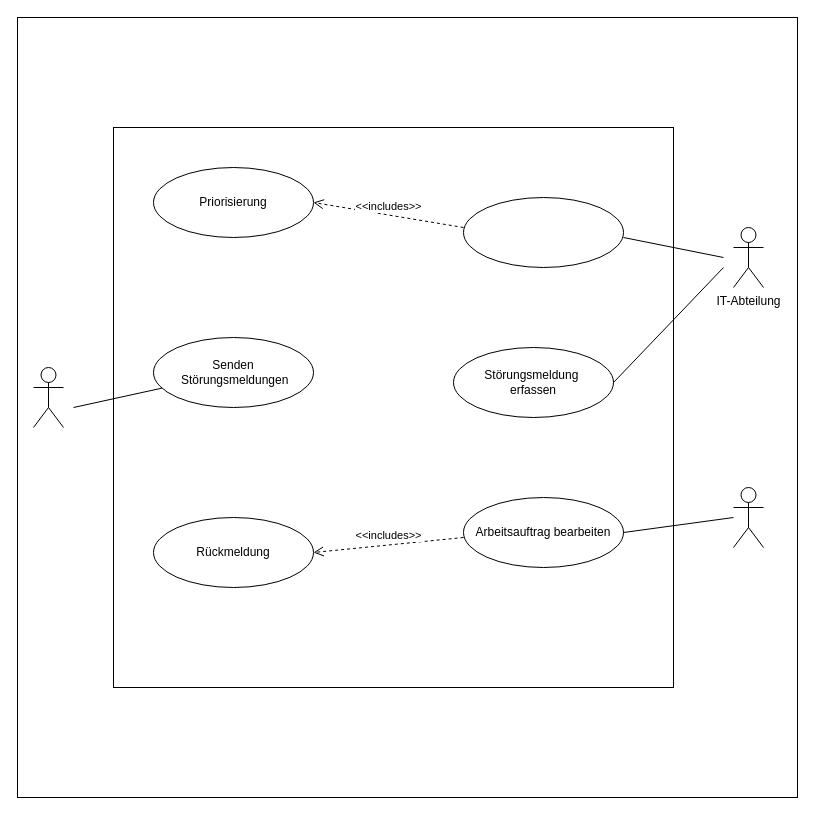
Image size: 815x815. Some labels were removed from this diagram. Each missing label, with the centre of its shape:
"Arbeitsplanung für kommende Woche" goes at [543,232].
"Kunden" goes at [48,397].
"Serviceteam" goes at [748,517].
